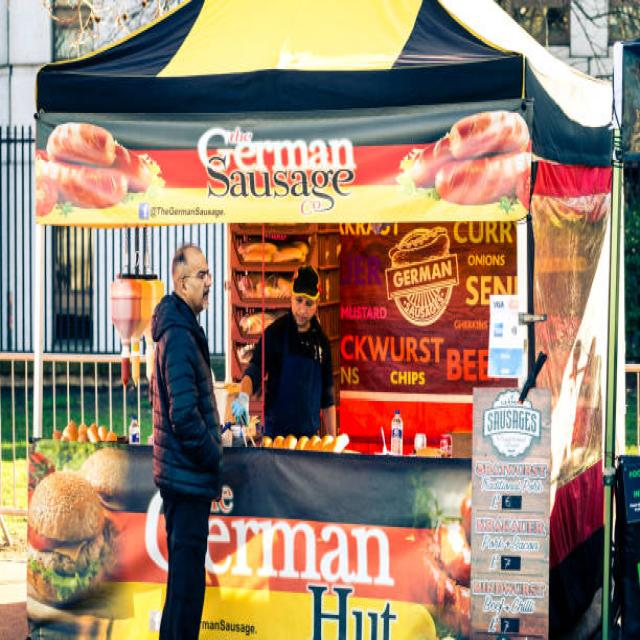Emperan: (26, 9, 616, 640)
